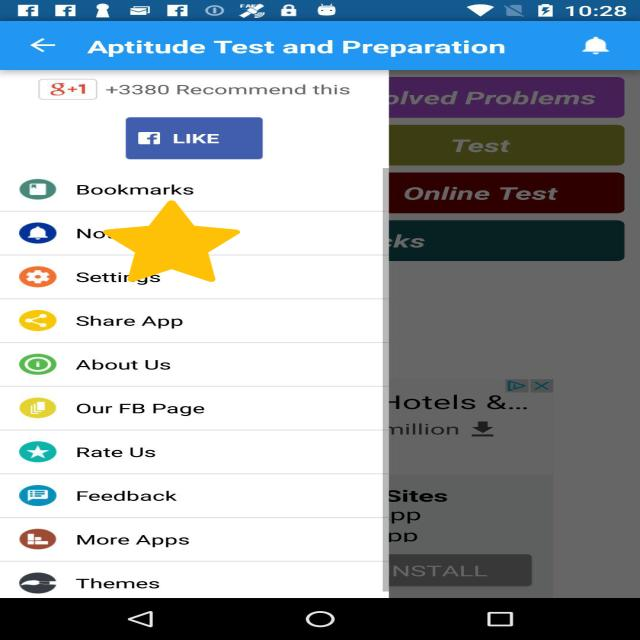forced continuity: (103, 200, 240, 282)
